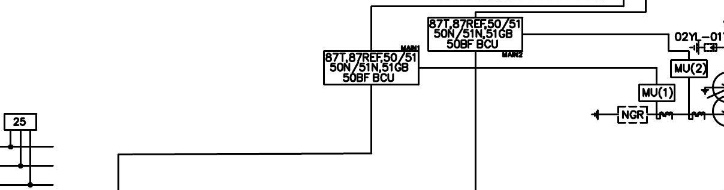MU: (670, 59, 708, 79), (638, 83, 676, 102)
NGR_future: (590, 105, 648, 124)
